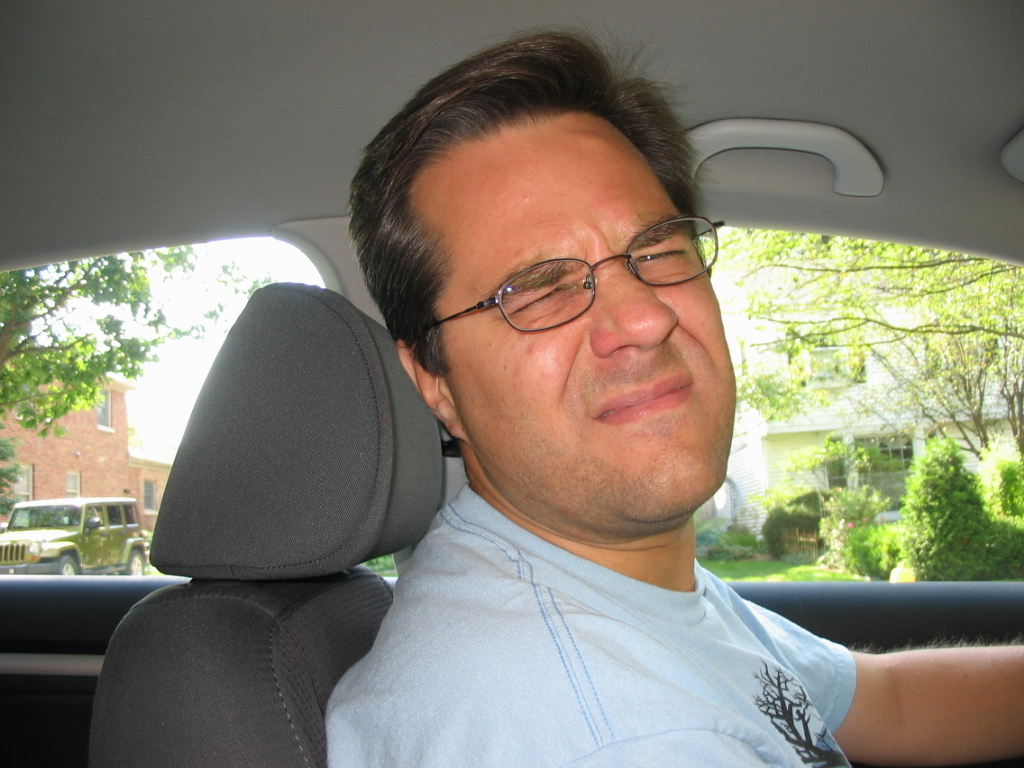Car: (0, 0, 1022, 767), (0, 502, 163, 618)
